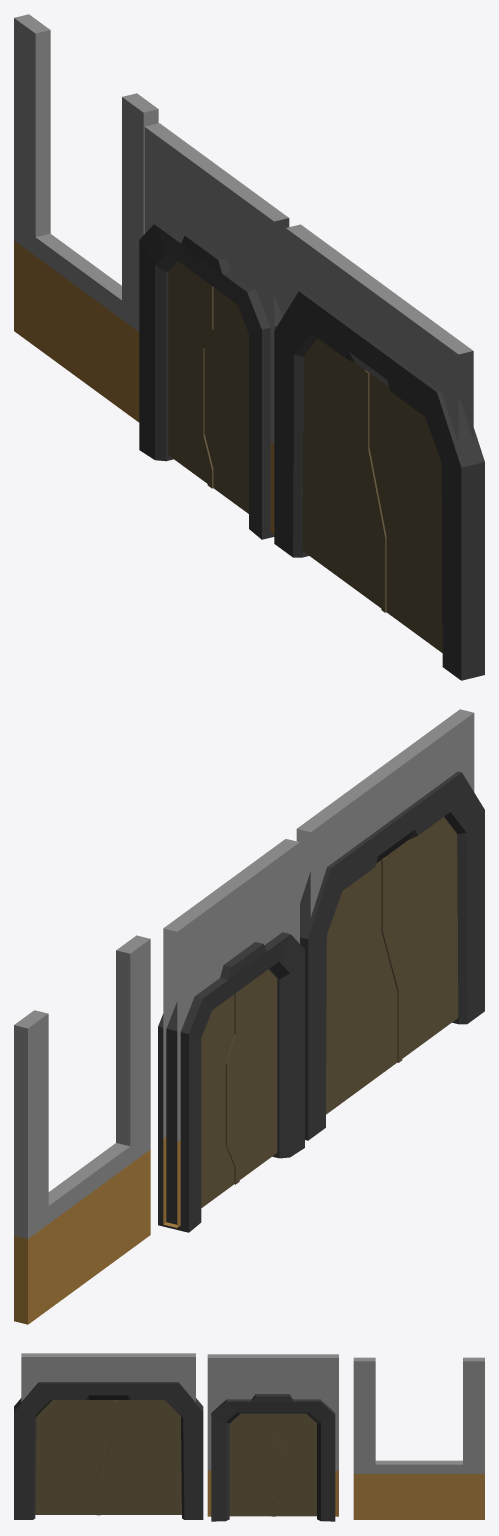
The model's file is SM_Door_St1_WB.fbx.
3 views of the same model, one above another, from view 1: azimuth 30°, elevation 25°; view 2: azimuth 150°, elevation 25°; view 3: azimuth 270°, elevation 25° (orthographic). The views are drawn at different scales.
Parts seen in each view (by area): view 1: SM_WallDoorF2_3x4, SM_WallDoor_4x4.001, SM_WallDoor_BigL_4x4, SM_WallDoor_3x4.001, SM_WallDoorBigR_4x4, SM_WallDoor_3x4, SM_WallDoor_4x4, Cube, Cube.001; view 2: SM_WallDoorF2_3x4, SM_WallDoor_3x4.001, SM_WallDoor_4x4.001, SM_WallDoor_3x4, SM_WallDoor_BigL_4x4, SM_WallDoorBigR_4x4, SM_WallDoor_4x4, Cube, Cube.001; view 3: SM_WallDoorF2_3x4, SM_WallDoor_BigL_4x4, SM_WallDoor_4x4.001, SM_WallDoorBigR_4x4, SM_WallDoor_3x4, SM_WallDoor_3x4.001, SM_WallDoor_4x4, Cube, Cube.001.
Boxes of the visible parts, <box> form: SM_WallDoorF2_3x4: <box>14,14,158,422</box>; SM_WallDoor_4x4.001: <box>274,290,484,680</box>; SM_WallDoor_BigL_4x4: <box>302,338,383,610</box>; SM_WallDoor_3x4.001: <box>139,222,282,539</box>; SM_WallDoorBigR_4x4: <box>366,371,442,652</box>; SM_WallDoor_3x4: <box>144,123,289,534</box>; SM_WallDoor_4x4: <box>285,224,473,443</box>; Cube: <box>201,285,248,513</box>; Cube.001: <box>168,261,210,486</box>; SM_WallDoorF2_3x4: <box>14,935,150,1324</box>; SM_WallDoor_3x4.001: <box>158,932,304,1232</box>; SM_WallDoor_4x4.001: <box>300,771,484,1140</box>; SM_WallDoor_3x4: <box>163,839,299,1227</box>; SM_WallDoor_BigL_4x4: <box>326,858,400,1114</box>; SM_WallDoorBigR_4x4: <box>383,817,458,1060</box>; SM_WallDoor_4x4: <box>296,709,474,917</box>; Cube: <box>229,969,277,1182</box>; Cube.001: <box>201,992,237,1207</box>; SM_WallDoorF2_3x4: <box>353,1357,484,1519</box>; SM_WallDoor_BigL_4x4: <box>98,1400,181,1515</box>; SM_WallDoor_4x4.001: <box>14,1382,203,1519</box>; SM_WallDoorBigR_4x4: <box>35,1400,115,1515</box>; SM_WallDoor_3x4: <box>207,1354,338,1516</box>; SM_WallDoor_3x4.001: <box>211,1394,335,1521</box>; SM_WallDoor_4x4: <box>21,1353,195,1401</box>; Cube: <box>229,1413,282,1516</box>; Cube.001: <box>273,1413,316,1516</box>.
Size of the model in its own units: 49.89 by 410 by 1077.
